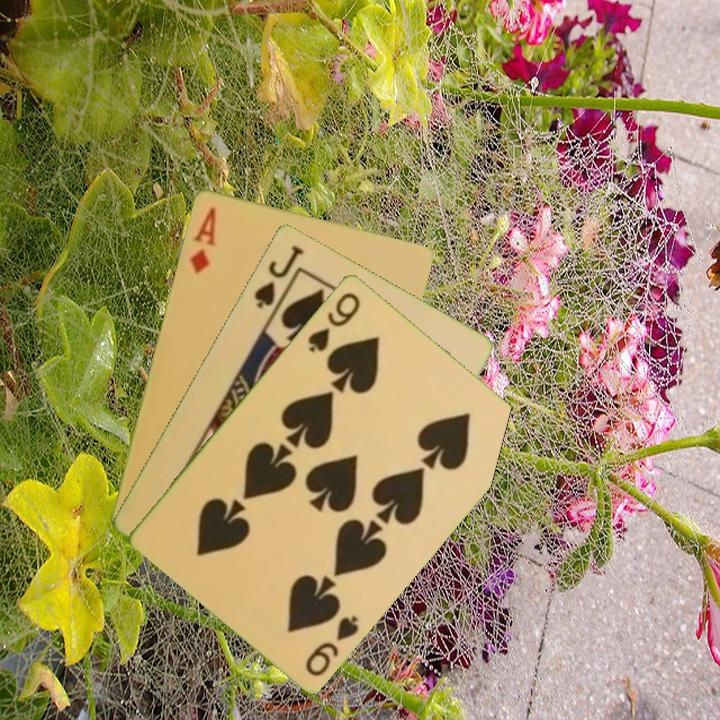9s: (301, 611, 362, 679), (304, 288, 363, 355)
Ad: (186, 203, 219, 277)
Js: (250, 241, 307, 311)
